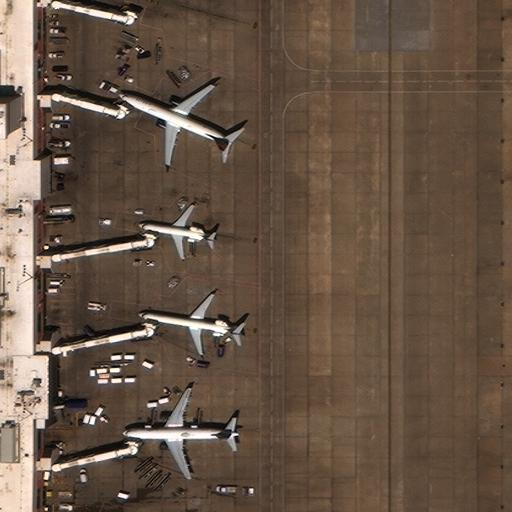Medium Civil Transport: (119, 387, 240, 478), (116, 82, 234, 164), (135, 292, 244, 356), (136, 203, 217, 260)
